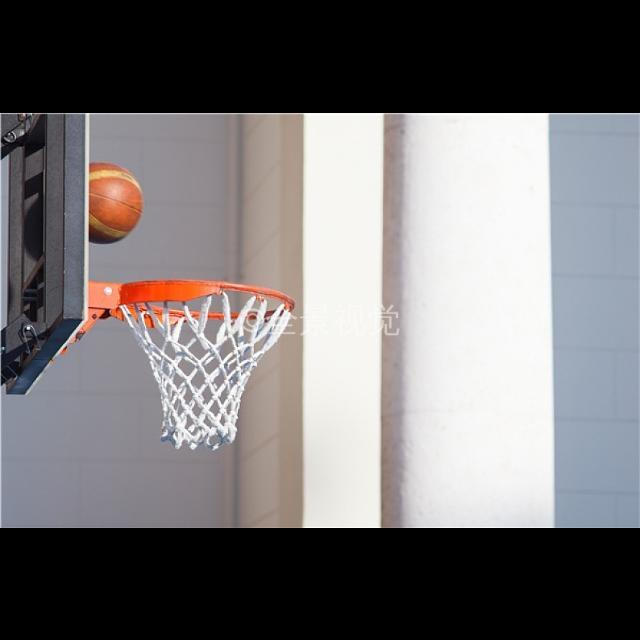basketball: (88, 162, 142, 242)
rim: (123, 278, 295, 448)
